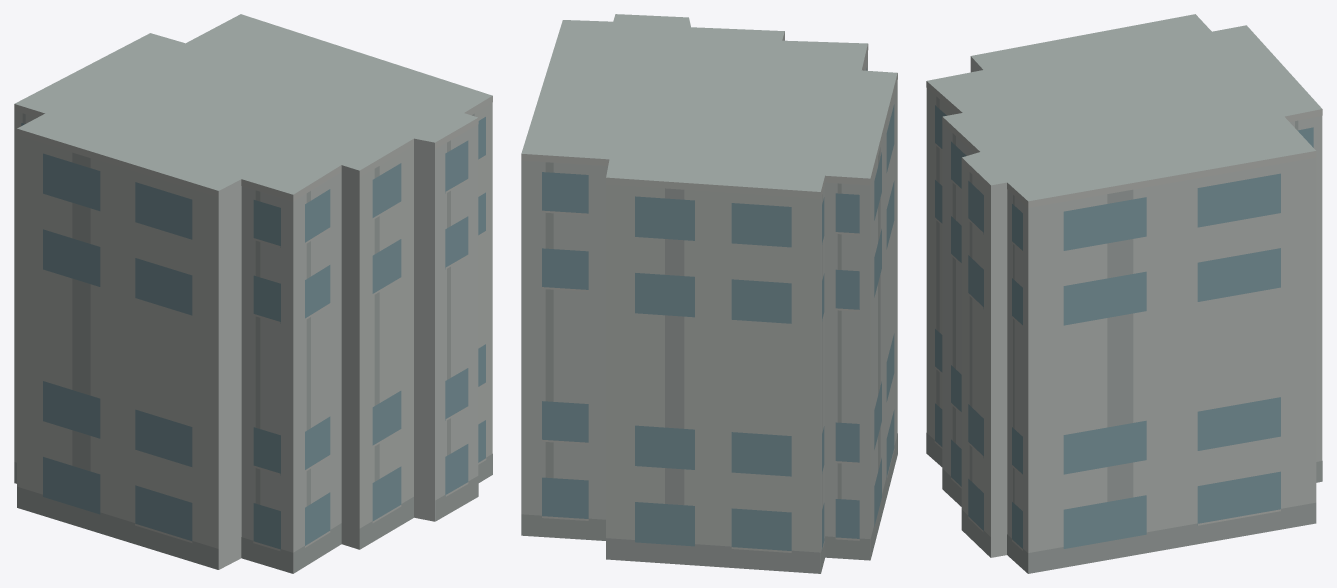
Rendered from survey-upis-32990686.glb.
3 views of the same model, side by side, from view 1: azimuth 30°, elevation 25°; view 2: azimuth 150°, elevation 25°; view 3: azimuth 270°, elevation 25° (orthographic). The views are drawn at different scales.
Visible parts, largest first — view 1: survey-upis-32990686.tmp; view 2: survey-upis-32990686.tmp; view 3: survey-upis-32990686.tmp.
Boxes of the visible parts, <box> form: survey-upis-32990686.tmp: <box>14,14,492,573</box>; survey-upis-32990686.tmp: <box>521,14,897,573</box>; survey-upis-32990686.tmp: <box>926,14,1322,573</box>.
Size of the model in its own units: 14.56 by 13.5 by 13.01.
